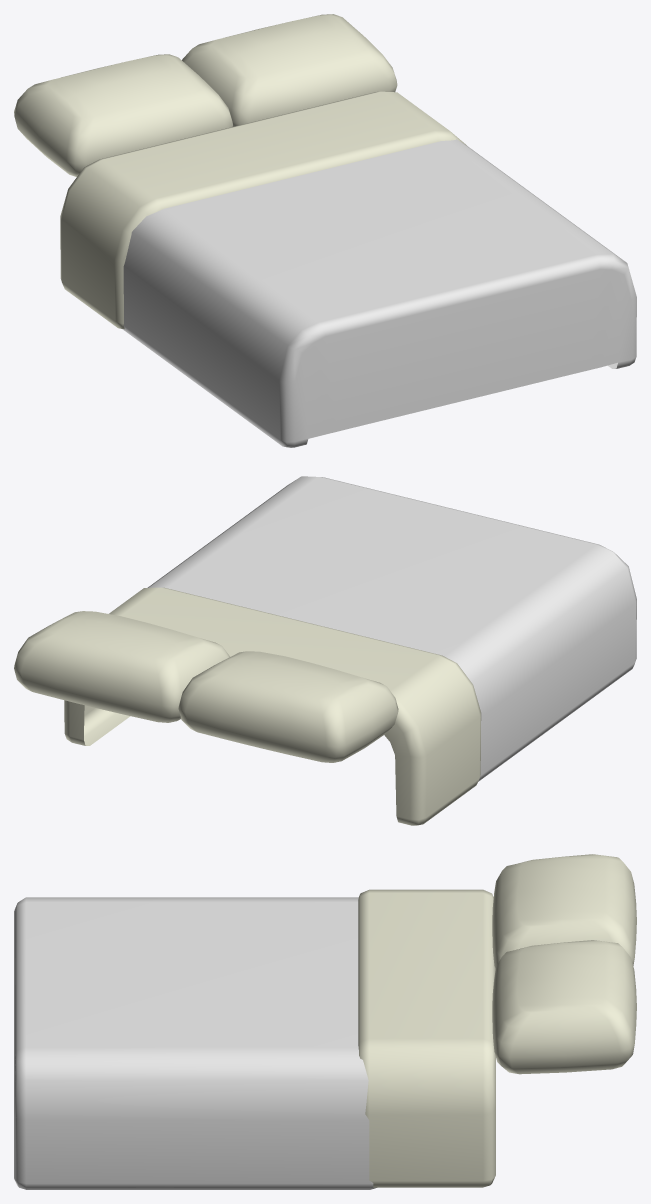
Rendered from Covers3.fbx.
3 views of the same model, one above another, from view 1: azimuth 30°, elevation 25°; view 2: azimuth 150°, elevation 25°; view 3: azimuth 270°, elevation 25° (orthographic). The views are drawn at different scales.
Parts seen in each view (by area): view 1: Covers3; view 2: Covers3; view 3: Covers3.
Part boxes in pixels (left/top/right/bottom): Covers3: left=14, top=14, right=636, bottom=447; Covers3: left=14, top=476, right=636, bottom=825; Covers3: left=14, top=854, right=636, bottom=1189.
Bounding box in the file's own units: 1.4 × 0.609 × 1.95.
